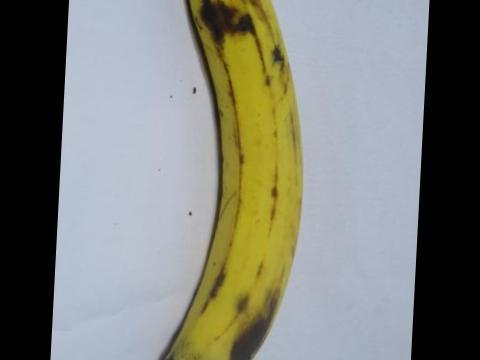ripe: (138, 0, 339, 359)
